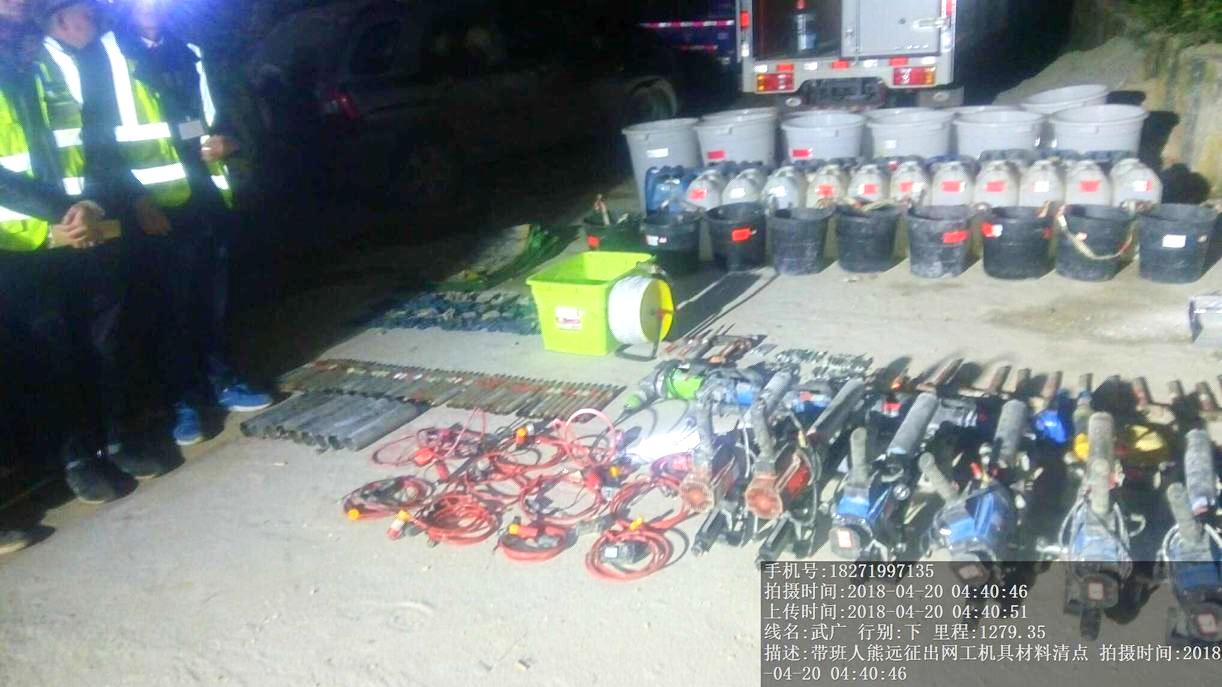GFJ: (1060, 407, 1148, 637), (927, 397, 1038, 563), (837, 376, 919, 563), (1157, 419, 1222, 641)
T: (526, 250, 660, 359)
